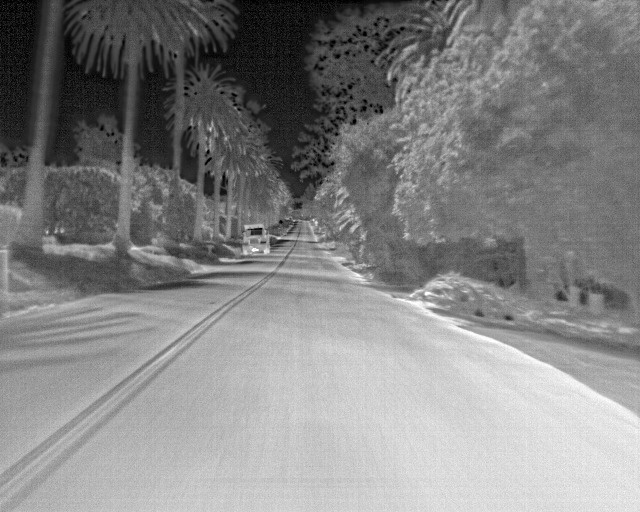vehicle: (242, 222, 270, 259)
